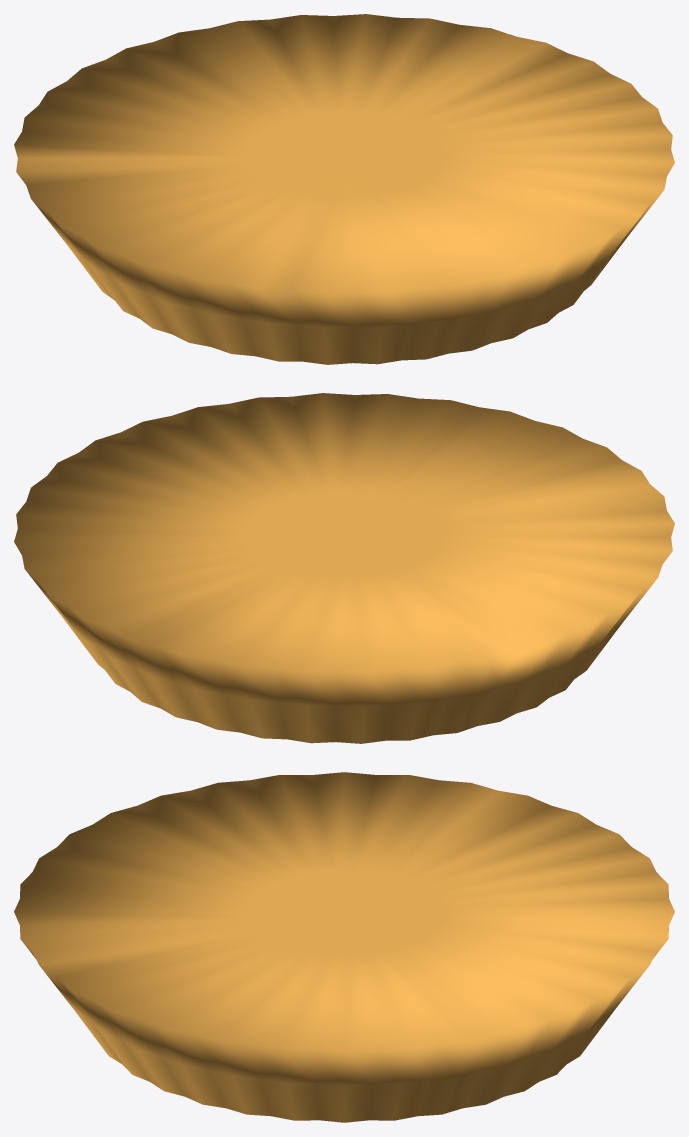
File: ciasto-szarlotka.gltf
The picture shows the model from 3 angles, top to bottom: view 1: azimuth 30°, elevation 25°; view 2: azimuth 150°, elevation 25°; view 3: azimuth 270°, elevation 25°; orthographic projection.
Parts seen in each view (by area): view 1: Cylinder.003; view 2: Cylinder.003; view 3: Cylinder.003.
Part boxes in pixels (<box>): Cylinder.003: <box>14,14,674,364</box>; Cylinder.003: <box>14,393,674,743</box>; Cylinder.003: <box>14,772,674,1122</box>.
Size of the model in its own units: 0.949 by 0.1636 by 0.949.
1 material, 1 textured.
